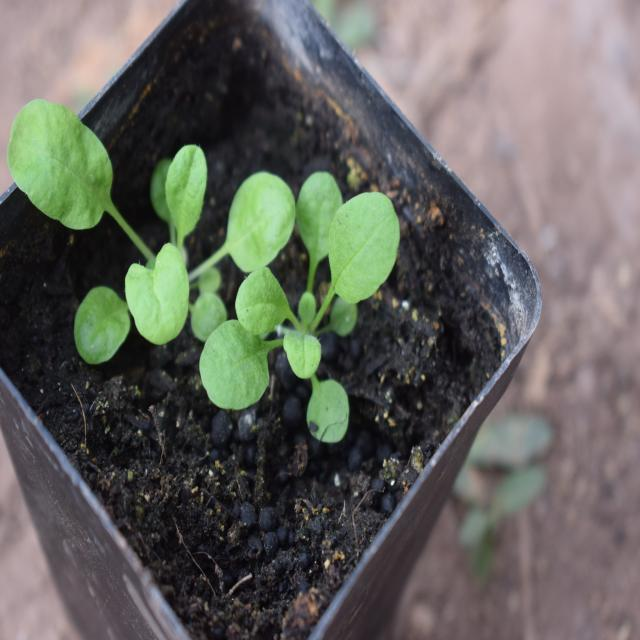Shepherd_Purse: (212, 149, 416, 436), (7, 77, 203, 348)
